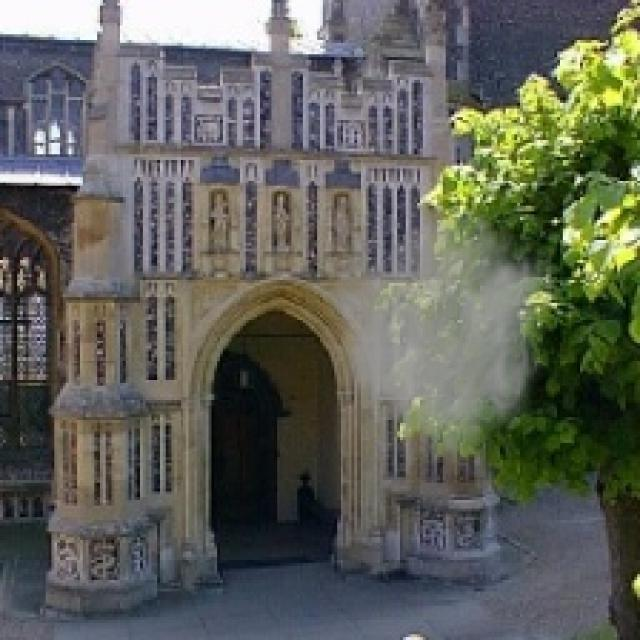smoke: (314, 197, 552, 480)
